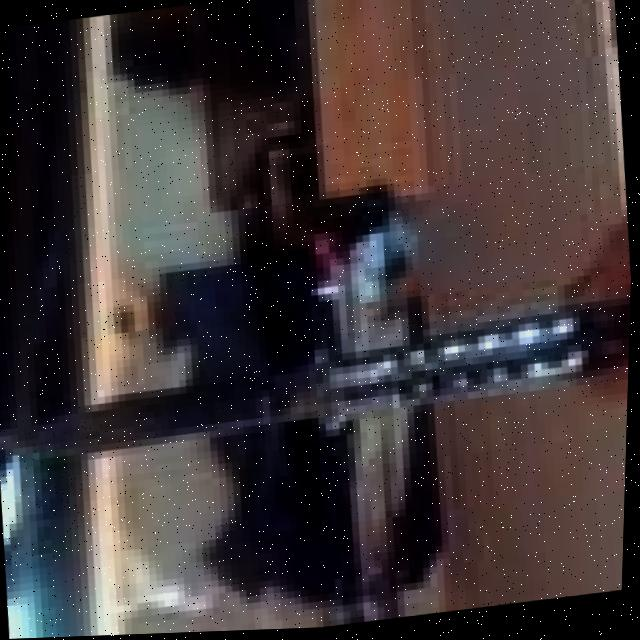knife: (0, 300, 633, 483)
